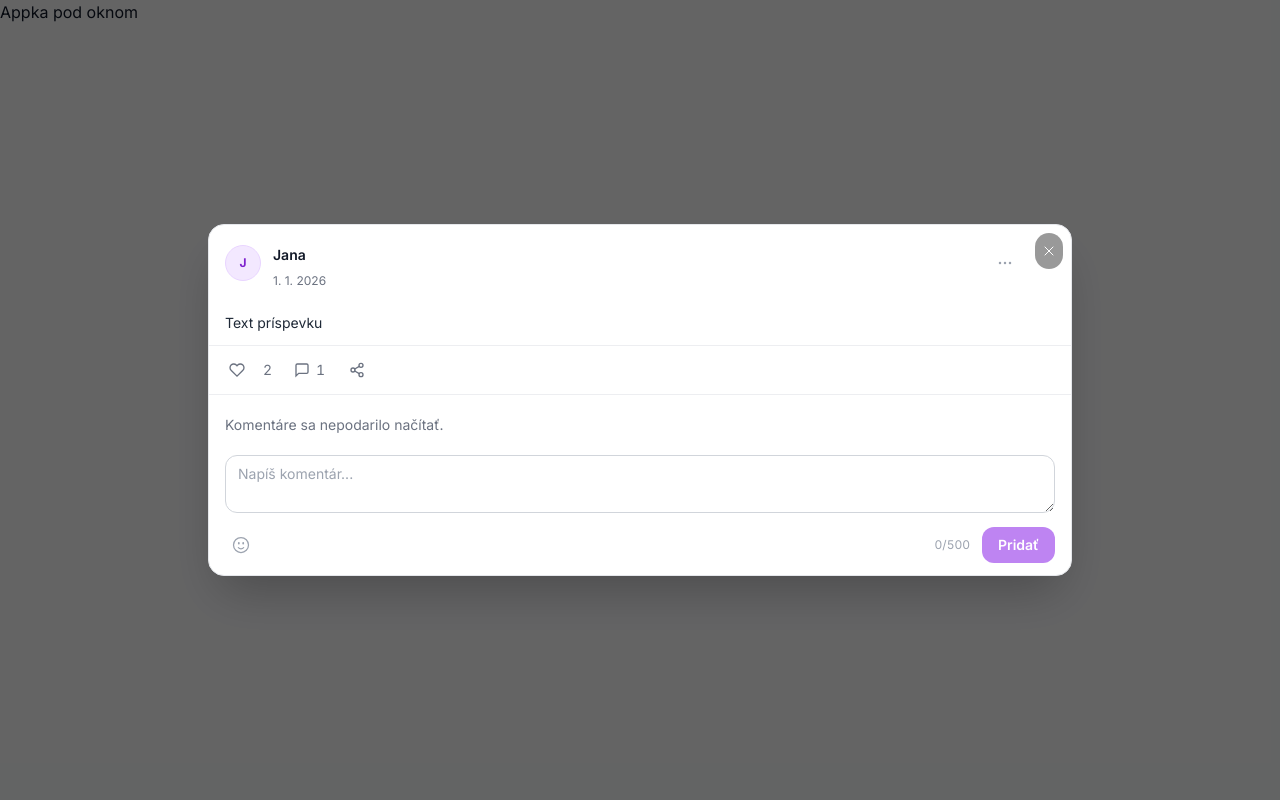
Test case: „..." menu vnútri okna › offers only report to somebody else
The image size is (1280, 800).
Expected: the element with test id "feed-post-card" is shown, [209,225,1071,394]
Click the button with test id "feed-post-menu-trigger": {"x": 1005, "y": 263} [987,245,1023,281]
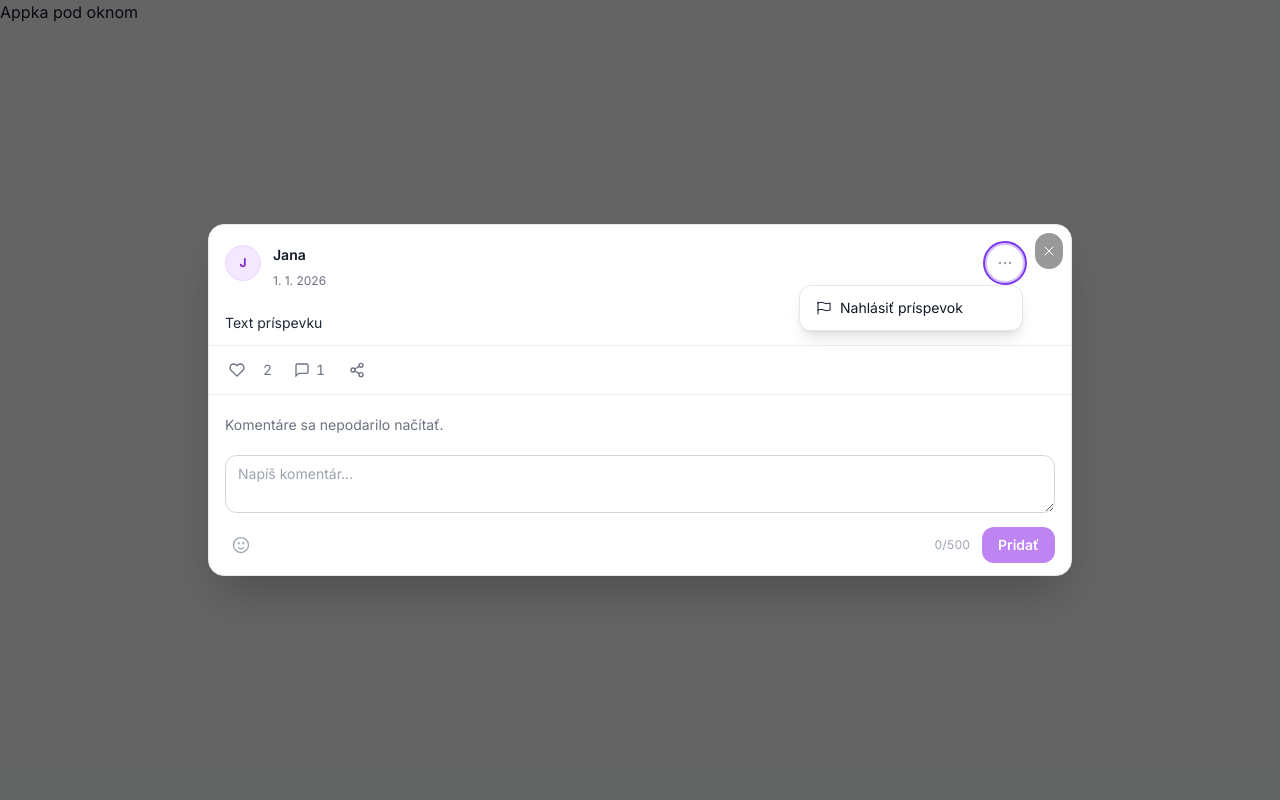
Expected: the menu item "Nahlásiť príspevok" is shown, [800,286,1022,330]
